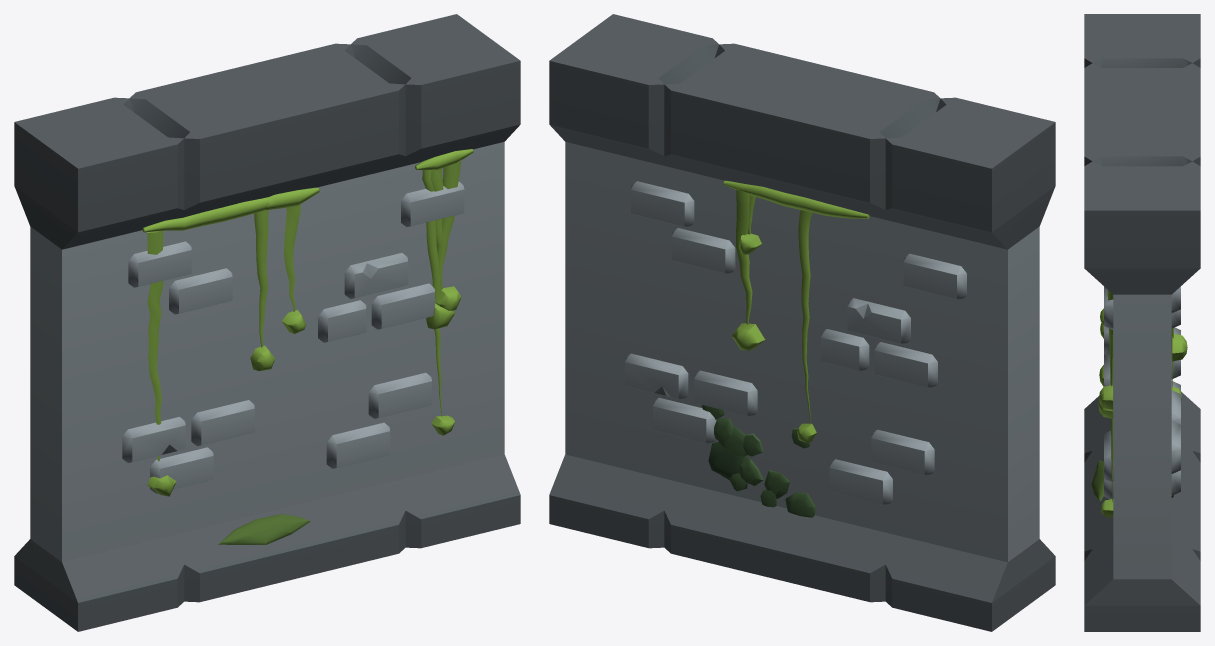
The model's file is wall_slimy_C.glb.
3 renders of one model, left to right at view 1: azimuth 30°, elevation 25°; view 2: azimuth 150°, elevation 25°; view 3: azimuth 270°, elevation 25°, orthographic. The views are drawn at different scales.
Parts seen in each view (by area): view 1: Item; view 2: Item; view 3: Item.
Boxes of the visible parts, x1,y1,x2,y2 form: Item: (14,14,520,631); Item: (549,14,1055,631); Item: (1084,14,1200,631).
Size of the model in its own units: 4 by 4 by 1.
4 materials, 4 textured.
